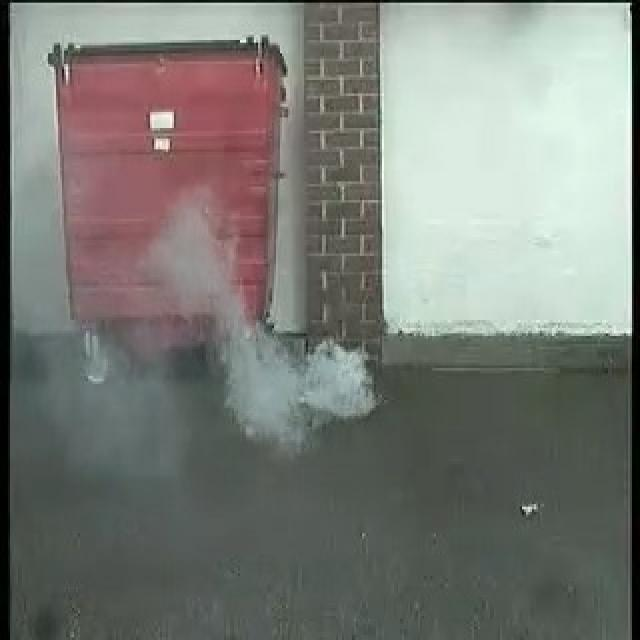smoke: (172, 266, 376, 430)
